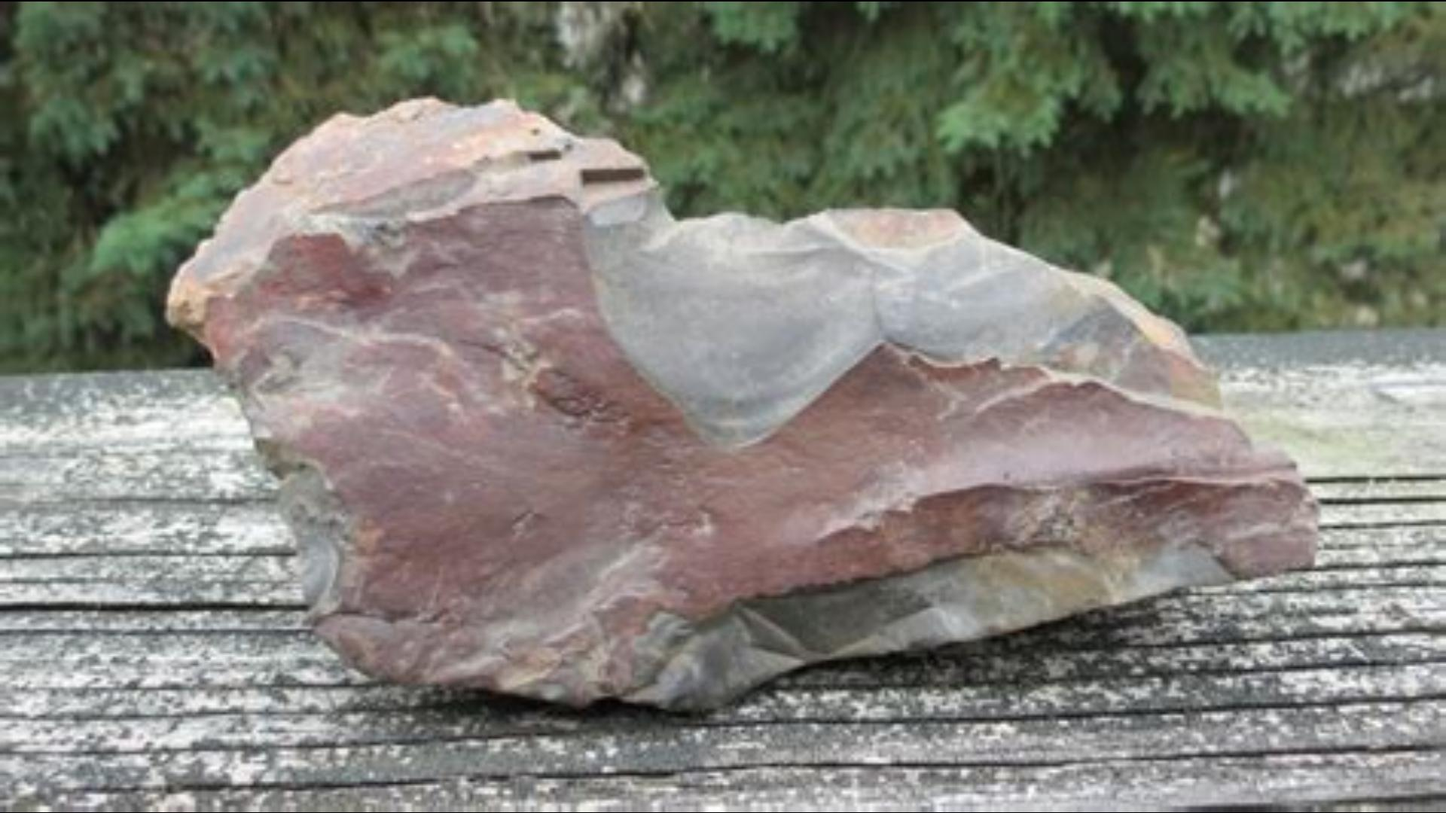rock: (168, 99, 1323, 706)
